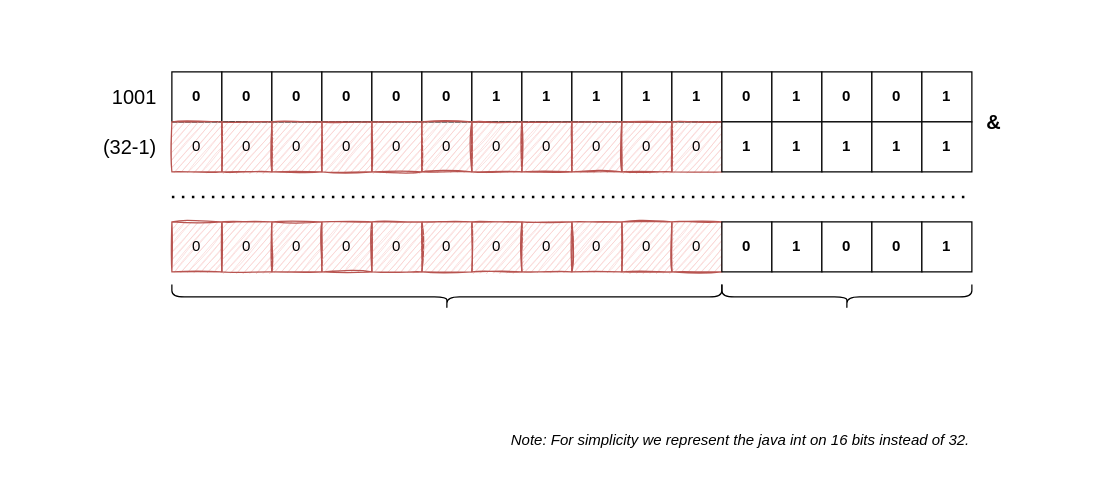
This 1093x493 diagram has some shape labels left out. Here are the shapes that lost their labels. From the top down, the centre of each, then its label:
pixel 446 296: This "bit" area is 0, and will be "cut" from 1001
pixel 846 296: The remainder
